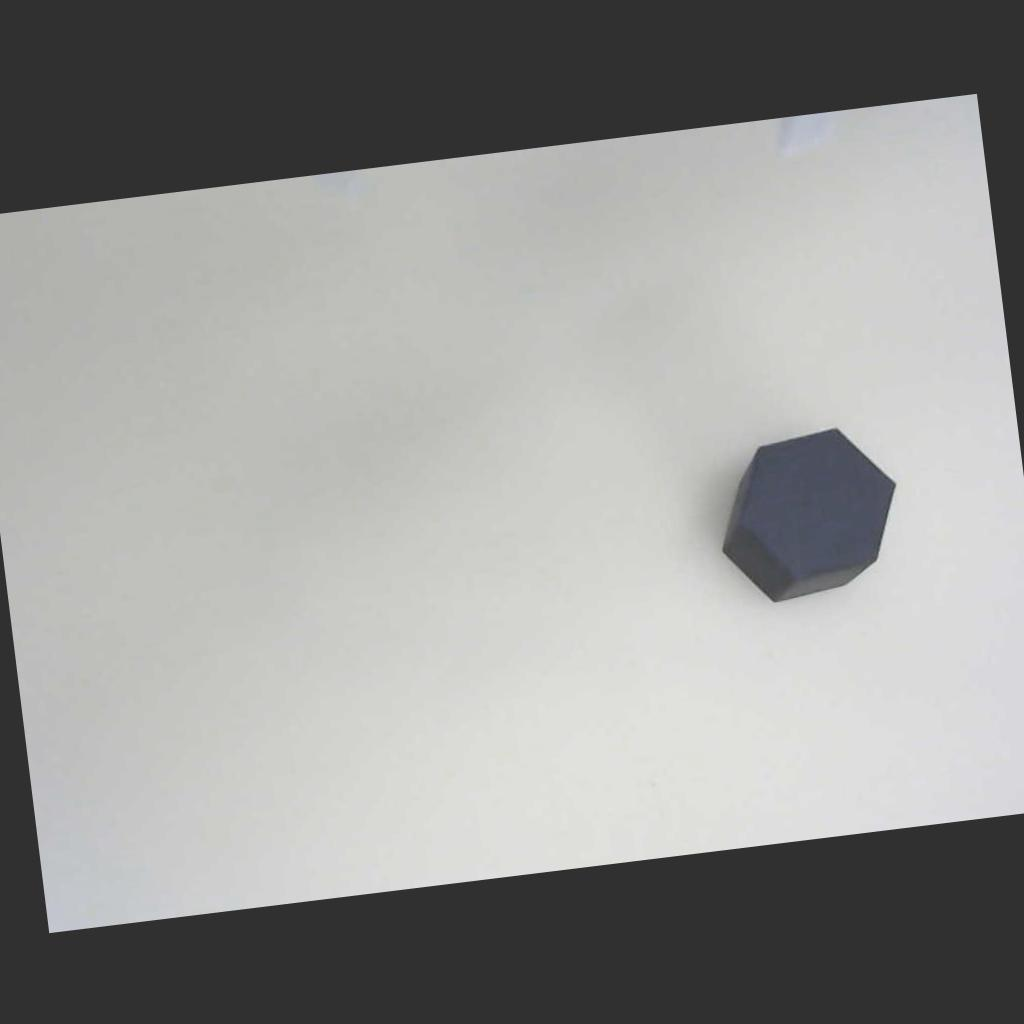hexagon: (683, 400, 927, 622)
